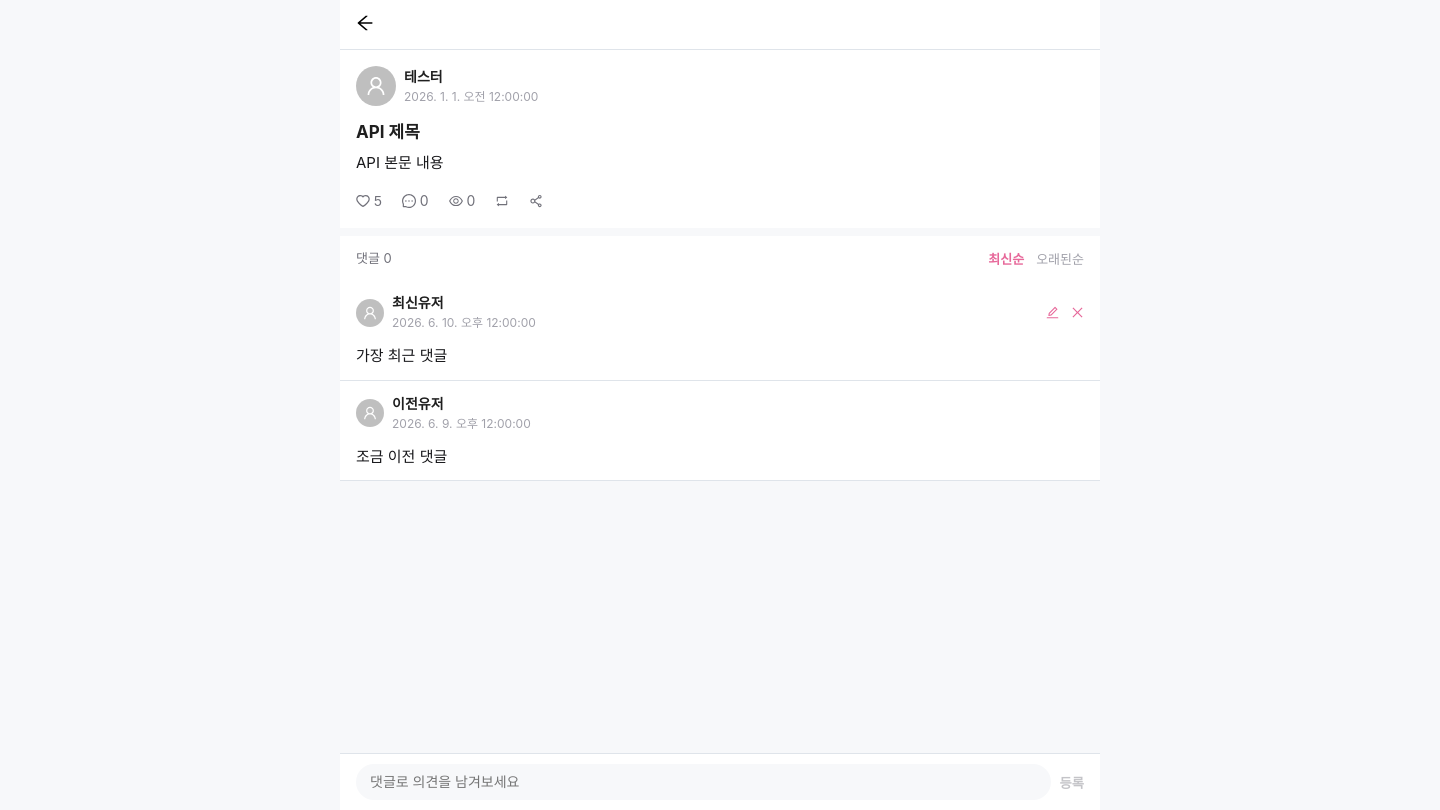
CommunityDetail › 편집 내용이 비면 저장 버튼이 비활성화된다
The image size is (1440, 810).
Check: the text "가장 최근 댓글" is shown, box [356,346,447,365]
Step 1. Click the button named "댓글 수정" → (1052, 313), box [1046,306,1059,319]
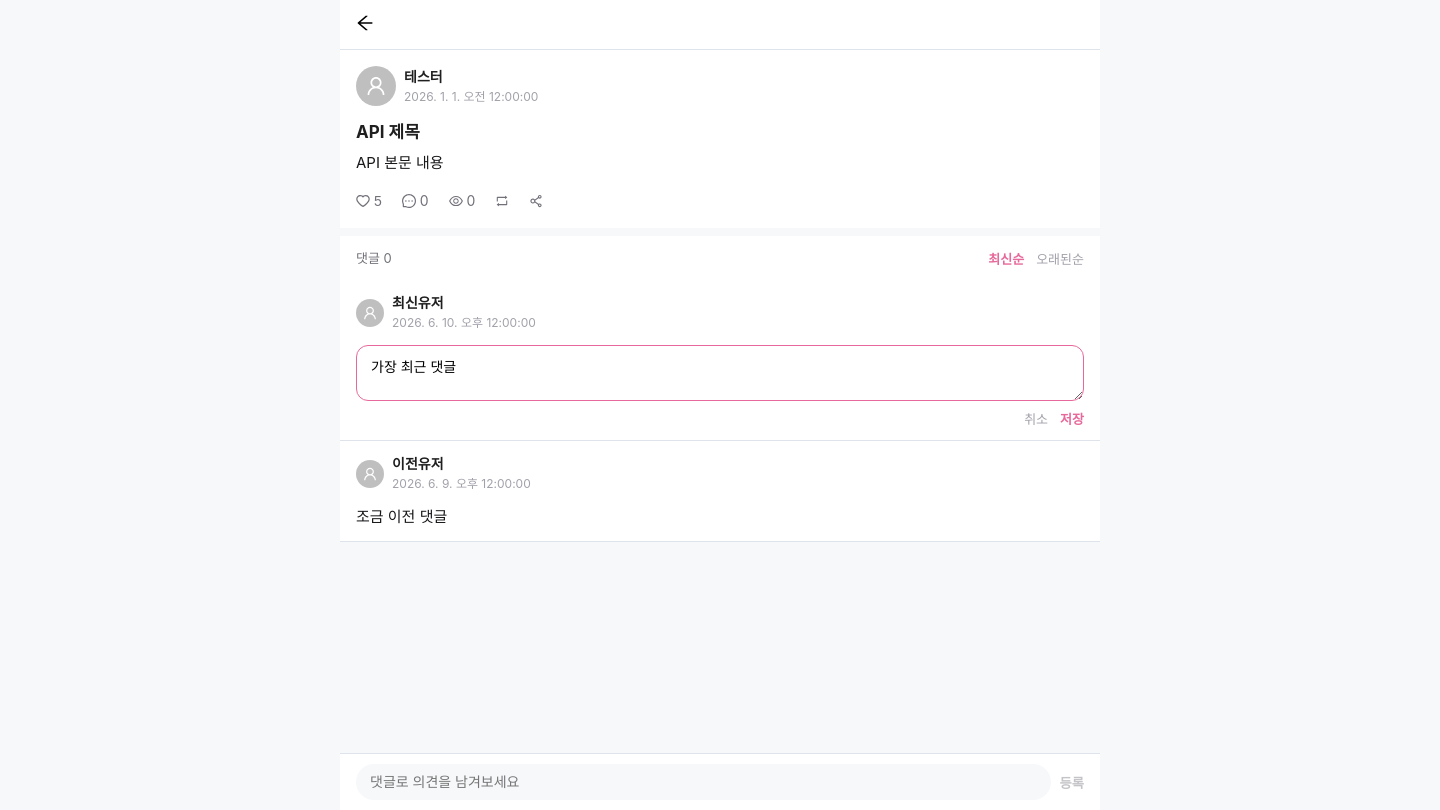
Step 2. Clear the text box showing "가장 최근 댓글" → (720, 373), box [356,345,1084,401]
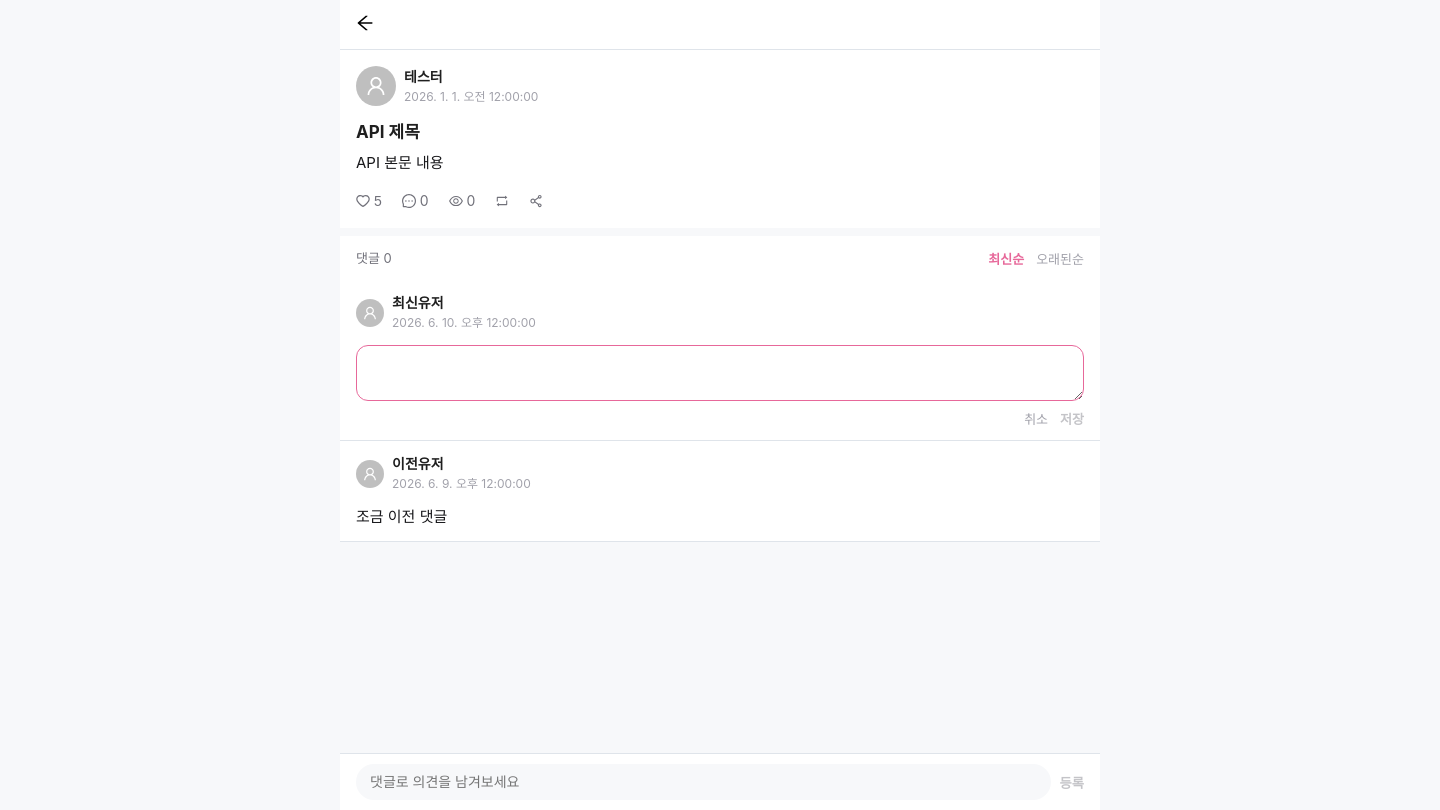
Check: the button "저장" is disabled, box [1060,409,1084,428]
